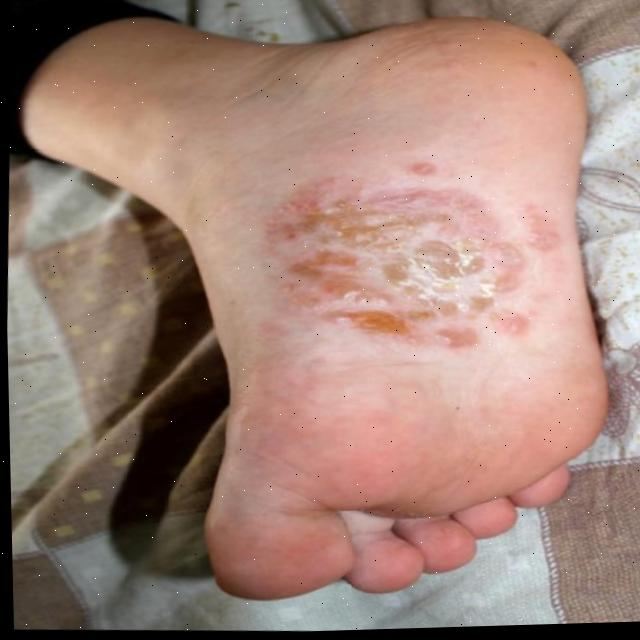Eczema: (286, 175, 502, 401)
